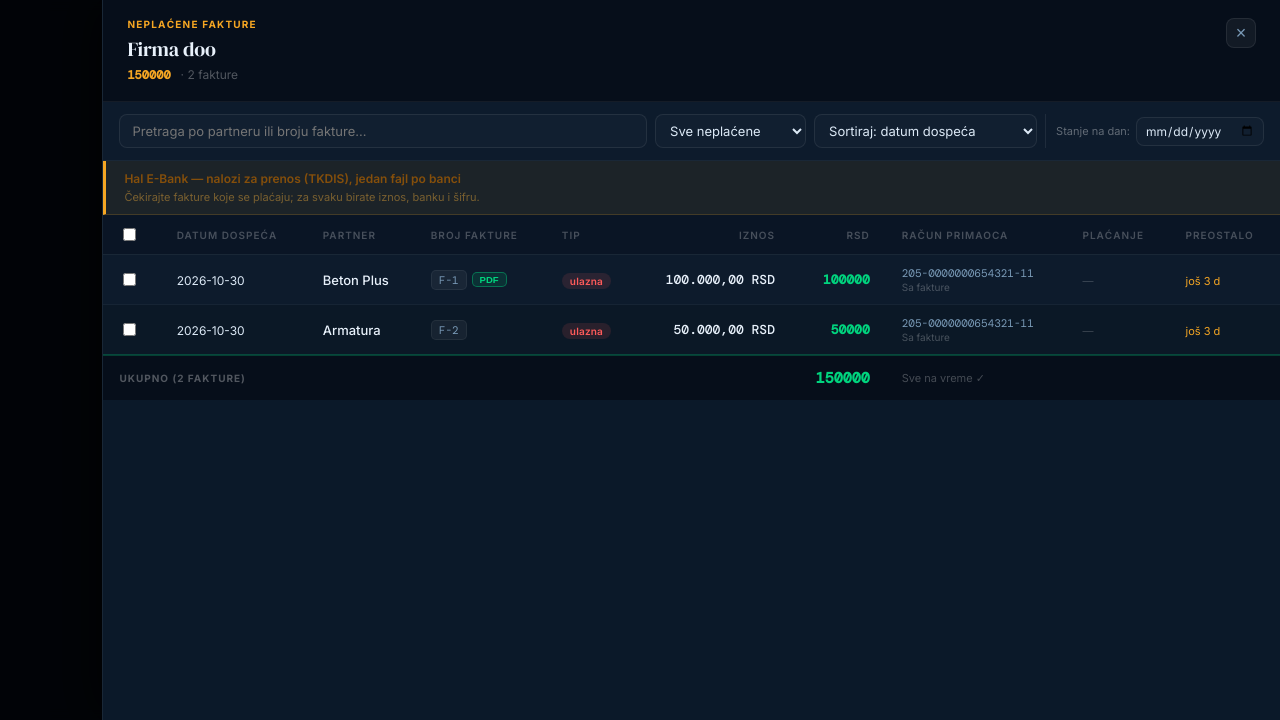
Test: paying unpaid bills › moves every ticked bill to one bank at once
Expected: the text "Beton Plus" is shown, 323,272 -> 389,288
Click the checkbox named "Plati F-1" at (130, 280), box 123,273 -> 136,286
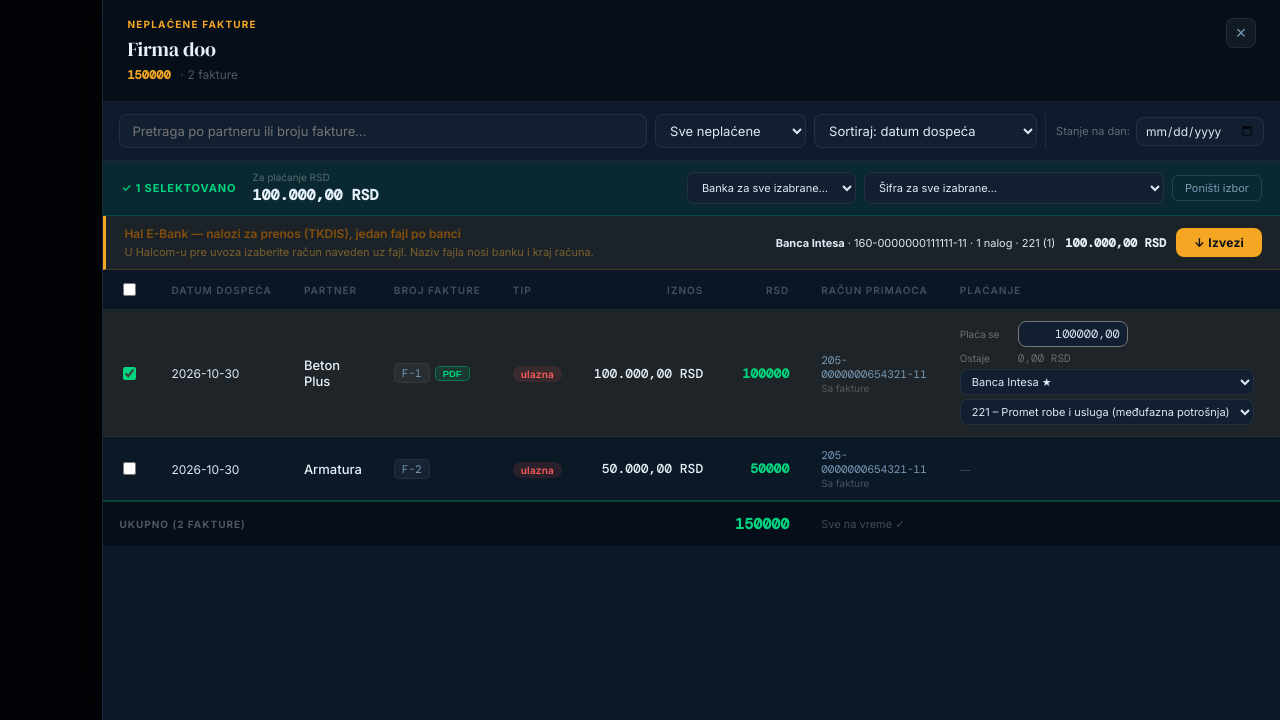
Click the checkbox named "Plati F-2" at (130, 468), box 123,462 -> 136,475
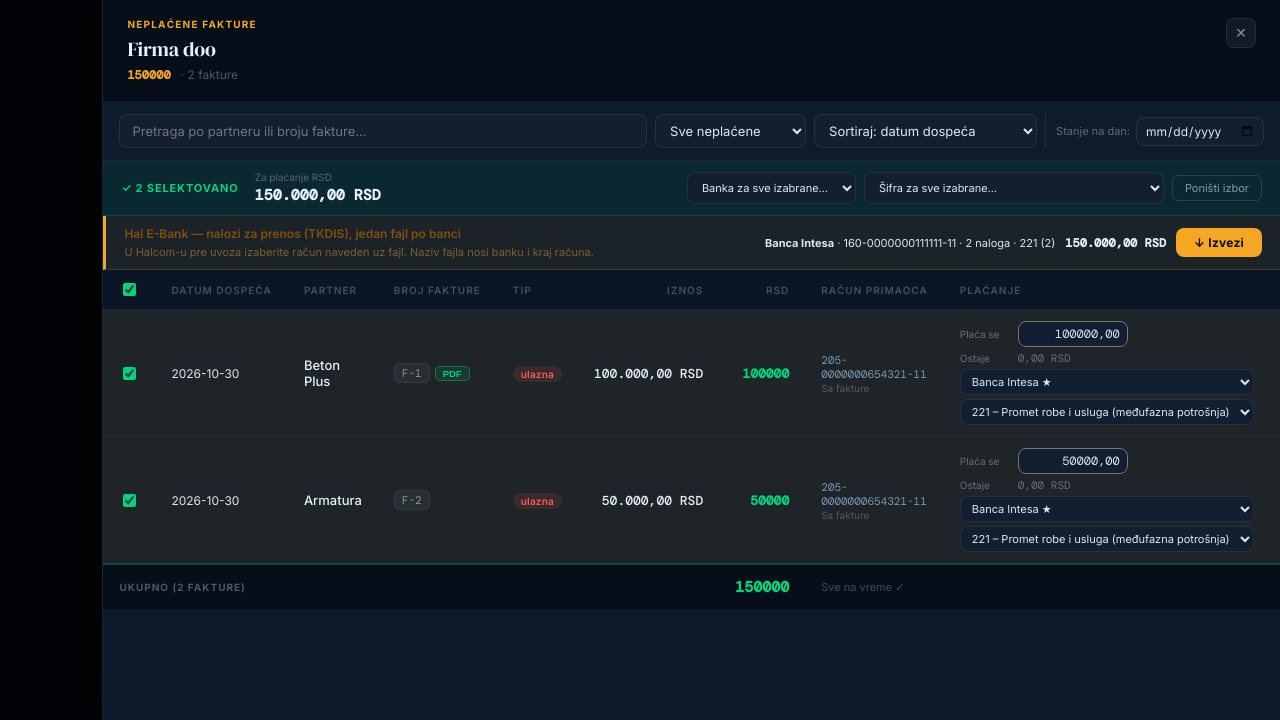
Select "OTP banka" in the dropdown named "Banka za sve izabrane" at (771, 188), box 687,172 -> 856,204
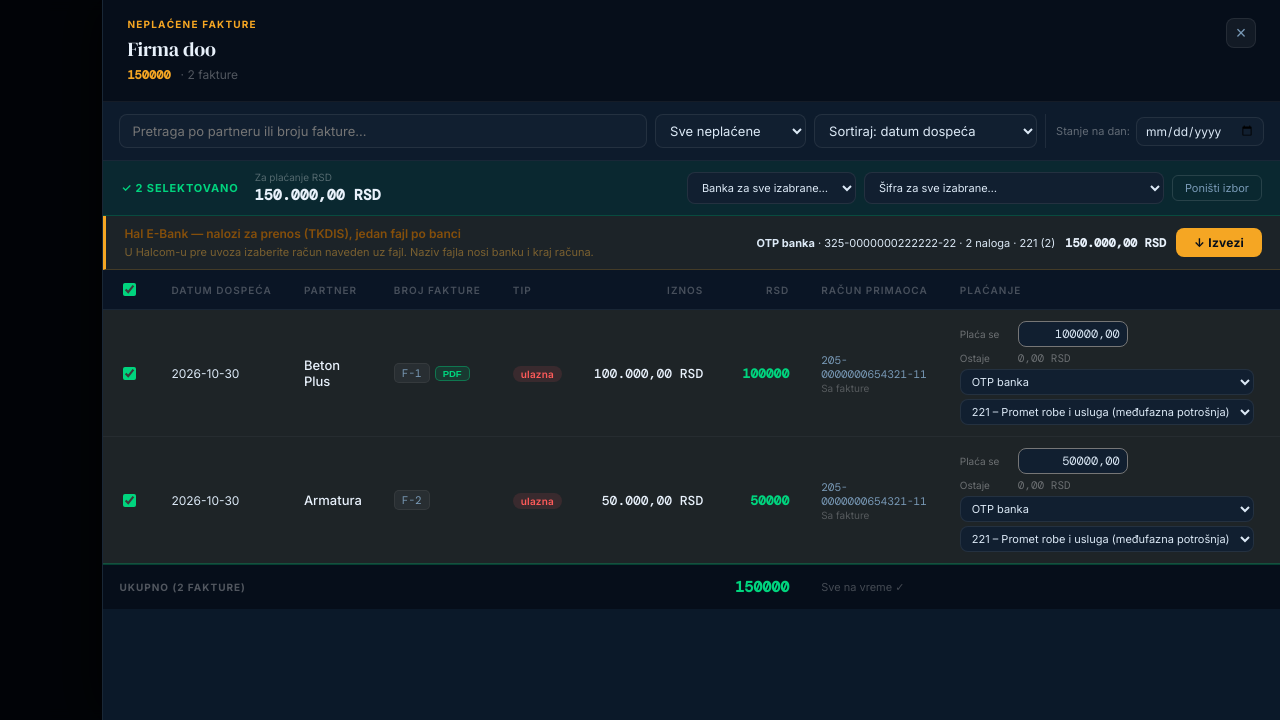
Expected: the number of buttons "↓ Izvezi" is 1, 1176,228 -> 1262,257
Expected: the dropdown named "Banka F-1" shows "OTP banka", 960,369 -> 1254,395
Expected: the dropdown named "Banka F-2" shows "OTP banka", 960,496 -> 1254,522
